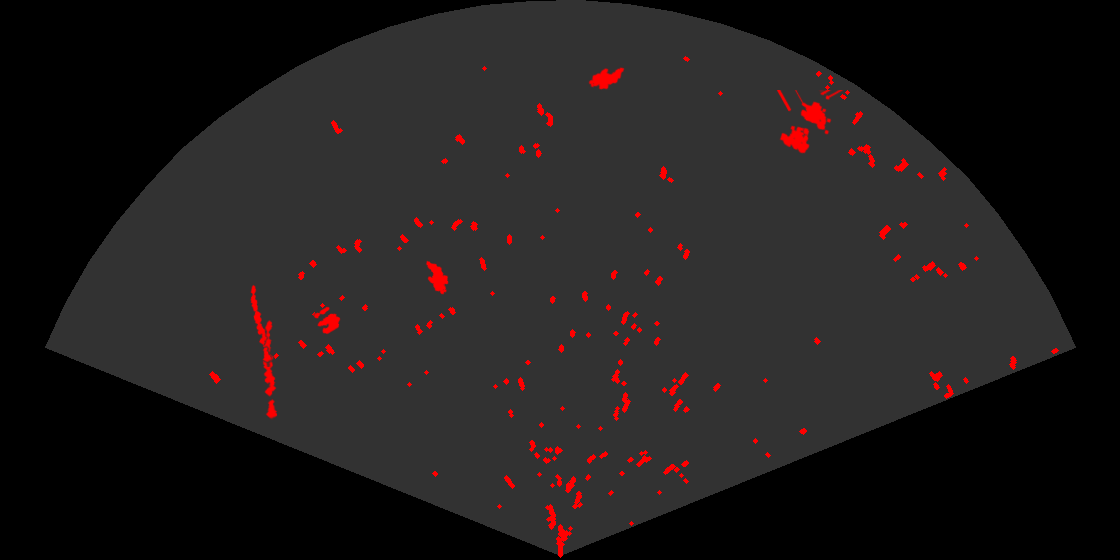AUV: (587, 66, 626, 91), (424, 259, 450, 296)
ball: (312, 305, 342, 336)
cage: (775, 90, 845, 155)
chain: (249, 283, 273, 367), (261, 318, 279, 420)
